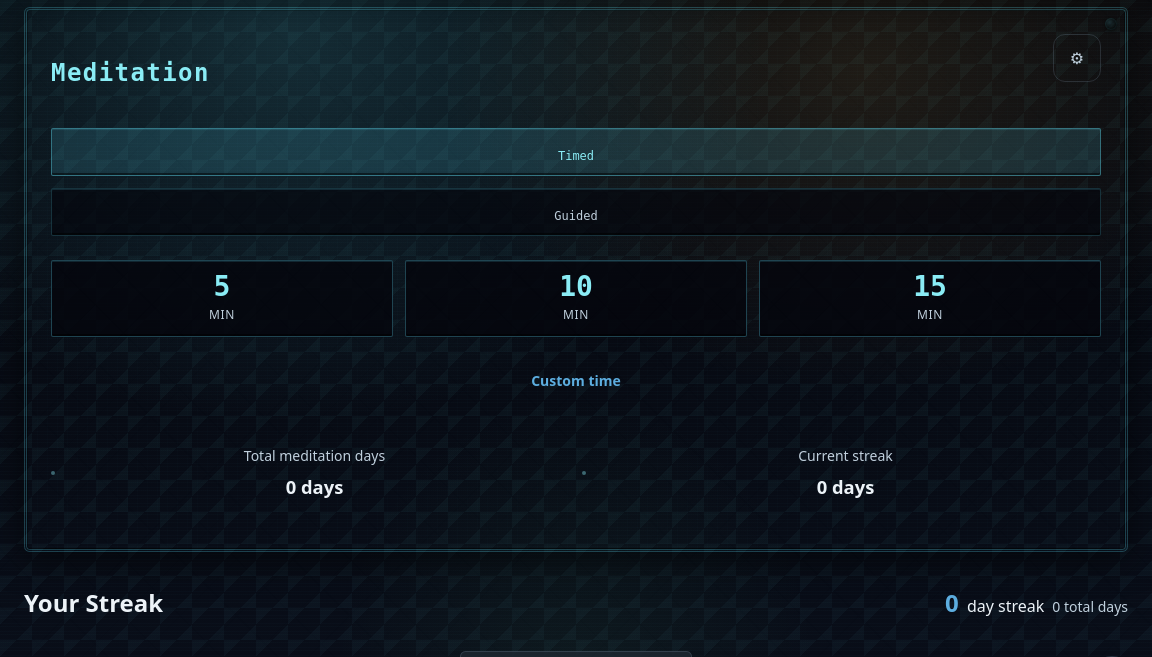
Test case: dashboard timer settings › saved default duration is reflected in dashboard timer
The width and height of the screenshot is (1152, 657).
(page scrolled)
Check: the element with test id "meditation-presets" is shown, box [51,260,1101,337]
Click the button with test id "meditation-preset-10": click(576, 299) [405,260,747,337]
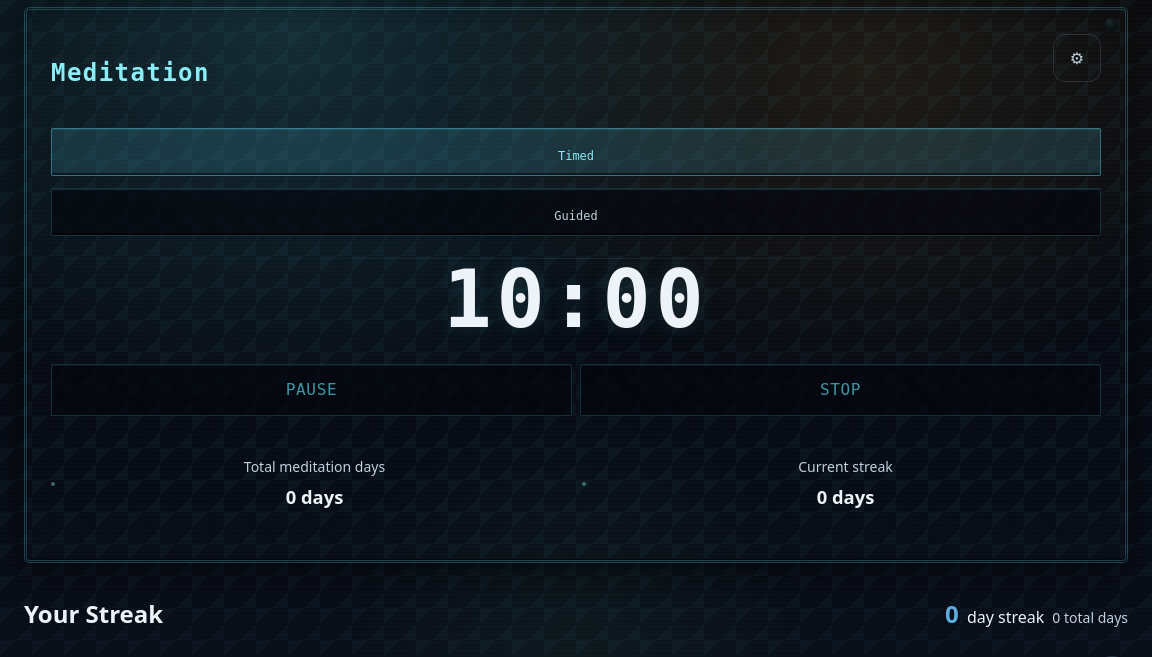
Check: the text with test id "timer-readout" reads "10:00", box [444,253,708,346]
